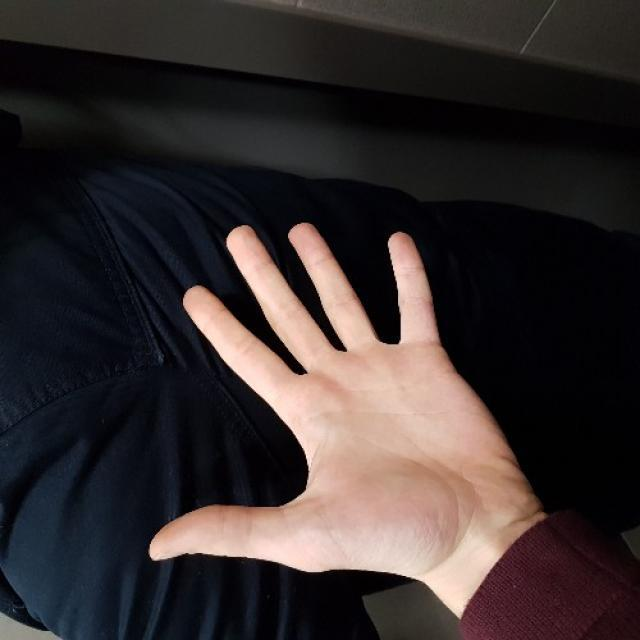paper: (152, 219, 490, 576)
